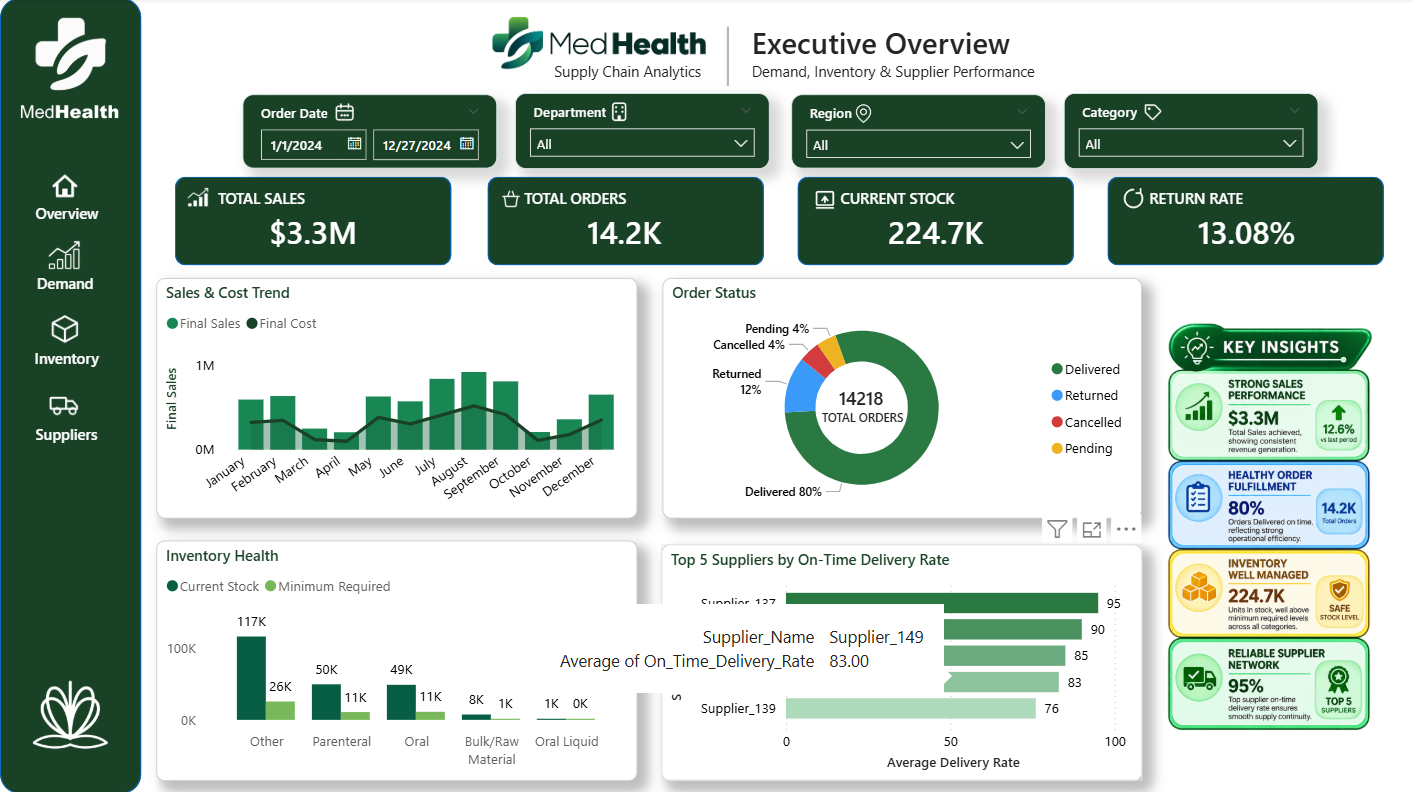

This screenshot's page, from the dashboard's own definition file:
{"tool":"powerbi","page":{"name":"Executive Overview","canvas":[1280,720],"ordinal":0},"visuals":[{"type":"shape","box":[0,0,127.9,719.8],"z":0},{"type":"image","box":[424.4,0,234.9,80.2],"z":0,"group":"g1"},{"type":"image","box":[34.5,143.5,50,52.3],"z":0,"group":"g4"},{"type":"image","box":[23.3,0,81.4,101.2],"z":1000},{"type":"textbox","box":[496.5,52.3,153.5,30.2],"z":1000,"group":"g1"},{"type":"slicer","fields":{"Values":["demand_sales.Order_Date"]},"box":[219.8,87.3,230.2,67.4],"z":1000,"group":"g2"},{"type":"textbox","box":[27.3,180.9,69.9,31.9],"z":1000,"group":"g4"},{"type":"textbox","box":[675.6,17.4,268.6,46.5],"z":2000,"group":"g1"},{"type":"image","box":[34.5,206.3,50,52.3],"z":2000,"group":"g4"},{"type":"lineClusteredColumnComboChart","title":"Sales & Cost Trend","fields":{"Category":["demand_sales.Order_Date.Variation.Date Hierarchy.Month"],"Y":["Sum(demand_sales.Final_Sales)"],"Y2":["Sum(demand_sales.Final_Cost)"]},"box":[141.9,253.5,434.9,217.4],"z":2000},{"type":"shape","box":[624.4,25.6,68.6,53.5],"z":3000,"group":"g1"},{"type":"slicer","fields":{"Values":["demand_sales.Dept"]},"box":[466.3,86.1,230.2,68.6],"z":3000,"group":"g2"},{"type":"textbox","box":[28.6,244.7,66.2,31.9],"z":3000,"group":"g4"},{"type":"donutChart","title":"Order Status","fields":{"Category":["demand_sales.Order_Status"],"Y":["demand_sales.Total Orders"]},"box":[598.8,253.5,433.7,217.4],"z":3000},{"type":"textbox","box":[675.6,52.3,290.7,30.2],"z":4000,"group":"g1"},{"type":"image","box":[34.5,272.6,50,52.3],"z":4000,"group":"g4"},{"type":"card","fields":{"Values":["demand_sales.Total Orders"]},"box":[738.4,348.8,81.4,29.1],"z":4000},{"type":"slicer","fields":{"Values":["demand_sales.Region"]},"box":[716.3,87.3,230.2,67.4],"z":5000,"group":"g2"},{"type":"textbox","box":[23,312.1,77.3,28.2],"z":5000,"group":"g4"},{"type":"textbox","box":[738.8,363.5,88.2,28.2],"z":5000},{"type":"slicer","fields":{"Values":["demand_sales.Category"]},"box":[962.8,86.1,230.2,68.6],"z":6000,"group":"g2"},{"type":"image","box":[34.5,338.8,50,52.3],"z":6000,"group":"g4"},{"type":"clusteredColumnChart","title":"Inventory Health","fields":{"Category":["inventory_stock.Category"],"Y":["inventory_stock.Current Stock","inventory_stock.Minimum Required"]},"box":[141.9,490.7,434.9,217.4],"z":6000},{"type":"shape","box":[158.1,161.7,250,80.2],"z":7000,"group":"g3"},{"type":"textbox","box":[27.1,380.8,72.4,30.7],"z":7000,"group":"g4"},{"type":"clusteredBarChart","title":"Top 5 Suppliers by On-Time Delivery Rate","fields":{"Category":["supplier_procurement.Supplier_Name"],"Y":["Avg(supplier_procurement.On_Time_Delivery_Rate)"]},"box":[598.3,494,435,214.1],"z":7000},{"type":"image","box":[291.9,83.8,40.7,37.2],"z":8000,"group":"g2"},{"type":"image","box":[1015.1,251.2,265.1,466.3],"z":8000},{"type":"image","box":[0,600,127.9,119.8],"z":9000},{"type":"image","box":[7,80.2,134.9,47.7],"z":10000},{"type":"image","box":[539.6,82.6,41.9,38.4],"z":10000,"group":"g2"},{"type":"group","id":"g1","title":"Group 1","box":[424.4,0,541.9,82.6],"z":11000},{"type":"shape","box":[440.7,161.7,250,80.2],"z":11000,"group":"g3"},{"type":"group","id":"g2","title":"Group 3","box":[219.8,82.6,973.3,72.1],"z":12000},{"type":"image","box":[766.3,87.3,31.4,33.7],"z":13000,"group":"g2"},{"type":"group","id":"g3","title":"Group 4","box":[158.1,160.5,1094.2,90.7],"z":13000},{"type":"group","id":"g4","title":"Group 2","box":[23,143.5,77.3,268],"z":14000},{"type":"shape","box":[720.9,161.7,250,80.2],"z":14000,"group":"g3"},{"type":"actionButton","box":[16.3,143,90.7,69.8],"z":15000},{"type":"image","box":[1021,84.9,43,36],"z":16000,"group":"g2"},{"type":"actionButton","box":[11.6,214,100,61.6],"z":16000},{"type":"shape","box":[1001.1,161.7,250,80.2],"z":17000,"group":"g3"},{"type":"actionButton","box":[11.8,278.8,100,61.2],"z":17000},{"type":"actionButton","box":[12.9,350.6,100,62.4],"z":18000},{"type":"card","title":"TOTAL SALES","fields":{"Values":["demand_sales.Total Sales"]},"box":[158.1,174.5,250,76.7],"z":19000,"group":"g3"},{"type":"image","box":[158.1,162.8,43,36],"z":21000,"group":"g3"},{"type":"textbox","box":[192.1,167,98.8,29.4],"z":23000,"group":"g3"},{"type":"card","title":"TOTAL SALES","fields":{"Values":["demand_sales.Total Orders"]},"box":[439.5,174.5,250,76.7],"z":24000,"group":"g3"},{"type":"textbox","box":[468.5,167,111.8,29.4],"z":26000,"group":"g3"},{"type":"image","box":[440.7,162.8,43,36],"z":27000,"group":"g3"},{"type":"card","title":"TOTAL SALES","fields":{"Values":["inventory_stock.Current Stock"]},"box":[720.9,174.5,250,76.7],"z":28000,"group":"g3"},{"type":"textbox","box":[754.6,167.5,120.9,27.9],"z":29000,"group":"g3"},{"type":"image","box":[720.9,160.5,50,43],"z":30000,"group":"g3"},{"type":"card","title":"TOTAL SALES","fields":{"Values":["demand_sales.Return Rate"]},"box":[1002.3,174.5,250,76.7],"z":31000,"group":"g3"},{"type":"image","box":[1002.3,160.5,44.2,41.9],"z":32000,"group":"g3"},{"type":"textbox","box":[1034.8,167.5,103.5,27.9],"z":33000,"group":"g3"}]}

Visuals, with their boxes in screenshot pixels (x1, y1, x2, y2), scaled from the page's 1280x720 canvas onto the 1412x792 screenshot:
shape: box(0, 0, 141, 791)
image: box(468, 0, 727, 88)
image: box(38, 158, 93, 215)
image: box(26, 0, 115, 111)
textbox: box(548, 58, 717, 91)
slicer - demand_sales.Order_Date: box(242, 96, 496, 170)
textbox: box(30, 199, 107, 234)
textbox: box(745, 19, 1042, 70)
image: box(38, 227, 93, 284)
"Sales & Cost Trend" lineClusteredColumnComboChart: box(157, 279, 636, 518)
shape: box(689, 28, 764, 87)
slicer - demand_sales.Dept: box(514, 95, 768, 170)
textbox: box(32, 269, 105, 304)
"Order Status" donutChart: box(661, 279, 1139, 518)
textbox: box(745, 58, 1066, 91)
image: box(38, 300, 93, 357)
card - demand_sales.Total Orders: box(815, 384, 904, 416)
slicer - demand_sales.Region: box(790, 96, 1044, 170)
textbox: box(25, 343, 111, 374)
textbox: box(815, 400, 912, 431)
slicer - demand_sales.Category: box(1062, 95, 1316, 170)
image: box(38, 373, 93, 430)
"Inventory Health" clusteredColumnChart: box(157, 540, 636, 779)
shape: box(174, 178, 450, 266)
textbox: box(30, 419, 110, 453)
"Top 5 Suppliers by On-Time Delivery Rate" clusteredBarChart: box(660, 543, 1140, 779)
image: box(322, 92, 367, 133)
image: box(1120, 276, 1411, 789)
image: box(0, 660, 141, 791)
image: box(8, 88, 157, 141)
image: box(595, 91, 641, 133)
"Group 1" group: box(468, 0, 1066, 91)
shape: box(486, 178, 762, 266)
"Group 3" group: box(242, 91, 1316, 170)
image: box(845, 96, 880, 133)
"Group 4" group: box(174, 177, 1381, 276)
"Group 2" group: box(25, 158, 111, 453)
shape: box(795, 178, 1071, 266)
actionButton: box(18, 157, 118, 234)
image: box(1126, 93, 1174, 133)
actionButton: box(13, 235, 123, 303)
shape: box(1104, 178, 1380, 266)
actionButton: box(13, 307, 123, 374)
actionButton: box(14, 386, 125, 454)
"TOTAL SALES" card: box(174, 192, 450, 276)
image: box(174, 179, 222, 219)
textbox: box(212, 184, 321, 216)
"TOTAL SALES" card: box(485, 192, 761, 276)
textbox: box(517, 184, 640, 216)
image: box(486, 179, 534, 219)
"TOTAL SALES" card: box(795, 192, 1071, 276)
textbox: box(832, 184, 966, 215)
image: box(795, 177, 850, 224)
"TOTAL SALES" card: box(1106, 192, 1381, 276)
image: box(1106, 177, 1154, 223)
textbox: box(1142, 184, 1256, 215)
